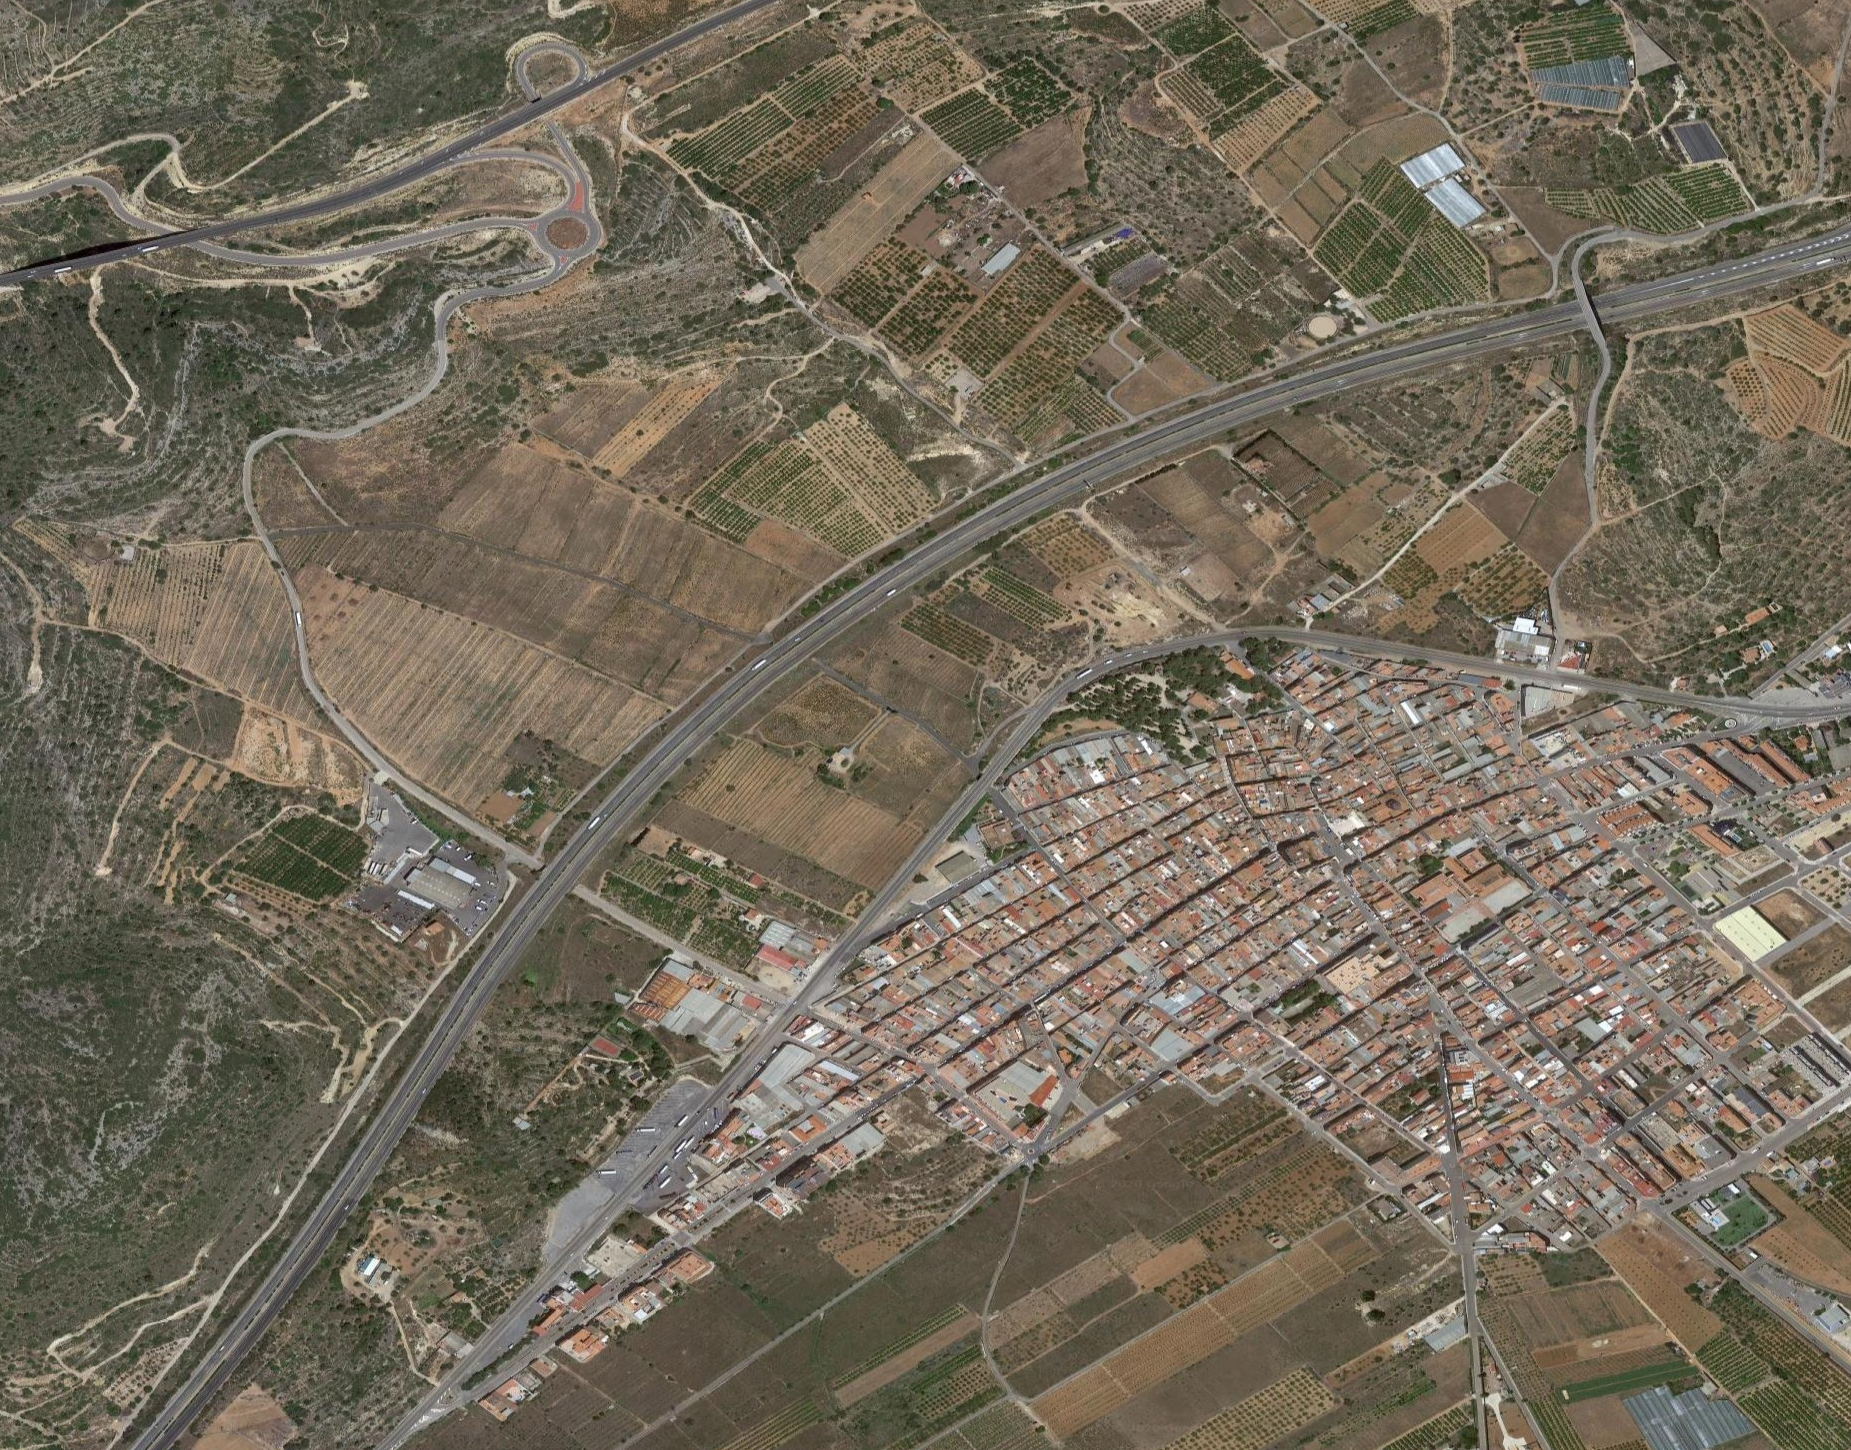motorway: (506, 403, 1052, 968), (1050, 185, 1849, 515), (113, 847, 521, 1450)
